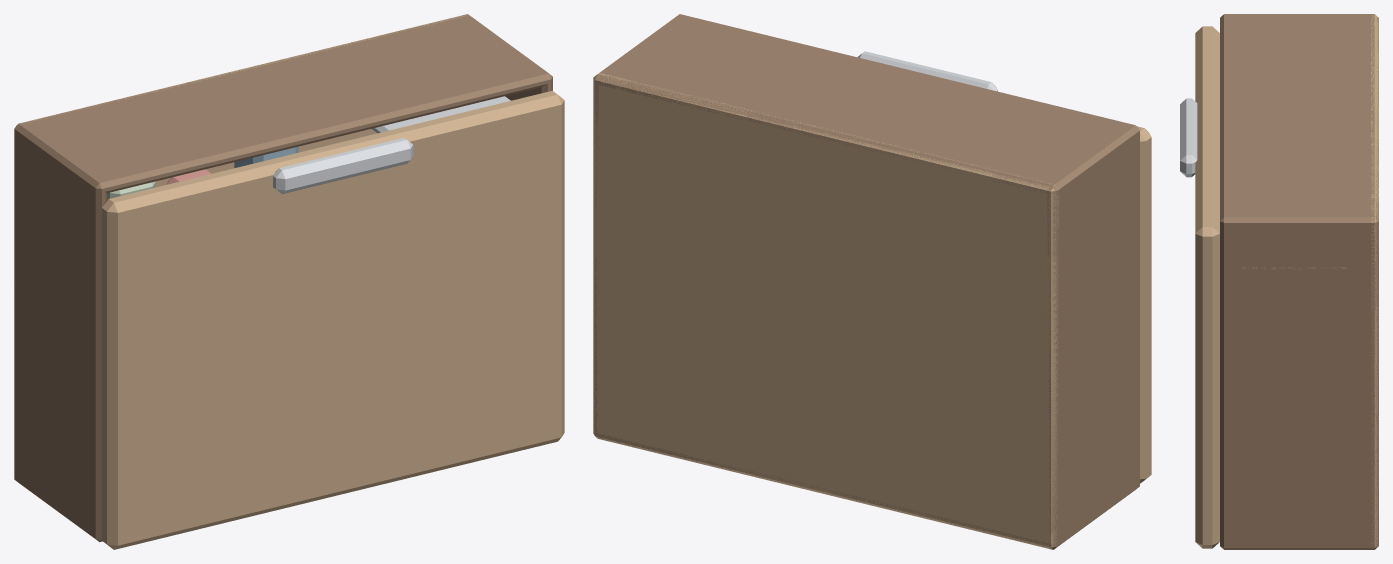
Rendered from FoldDownBarShelf.glb.
3 renders of one model, left to right at view 1: azimuth 30°, elevation 25°; view 2: azimuth 150°, elevation 25°; view 3: azimuth 270°, elevation 25°, orthographic. The views are drawn at different scales.
Parts seen in each view (by area): view 1: FoldDownBarShelf_Front, FoldDownBarShelf_Cabinet; view 2: FoldDownBarShelf_Cabinet, FoldDownBarShelf_Front; view 3: FoldDownBarShelf_Cabinet, FoldDownBarShelf_Front.
Boxes of the visible parts, left/top/right/bottom form: FoldDownBarShelf_Front: left=102, top=90, right=564, bottom=549; FoldDownBarShelf_Cabinet: left=14, top=14, right=552, bottom=542; FoldDownBarShelf_Cabinet: left=593, top=14, right=1139, bottom=549; FoldDownBarShelf_Front: left=857, top=51, right=1151, bottom=483; FoldDownBarShelf_Cabinet: left=1220, top=14, right=1378, bottom=549; FoldDownBarShelf_Front: left=1180, top=26, right=1219, bottom=548.
Bounding box in the file's own units: 0.8 × 0.6 × 0.325.
